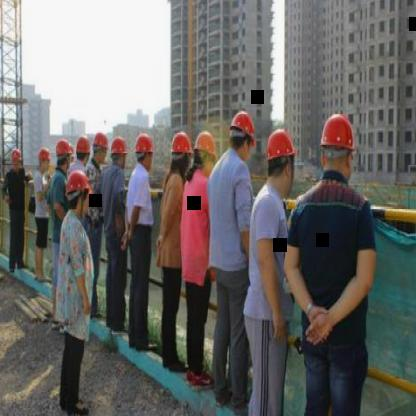helmet: (317, 110, 357, 184), (262, 128, 298, 196), (230, 106, 257, 161), (66, 169, 92, 215), (192, 130, 219, 172), (170, 130, 192, 177), (108, 133, 130, 172), (134, 130, 154, 166), (92, 133, 110, 164), (56, 138, 72, 171), (75, 133, 91, 165), (36, 145, 50, 173), (10, 148, 20, 172)
